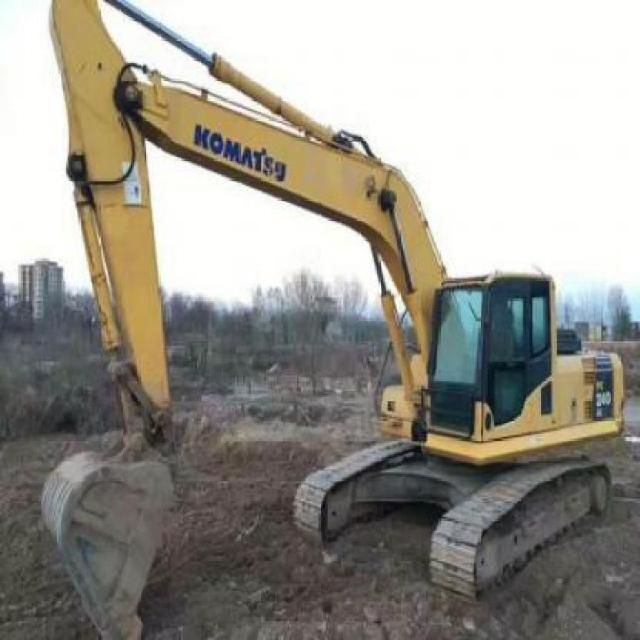Excavator: (39, 0, 627, 634)
